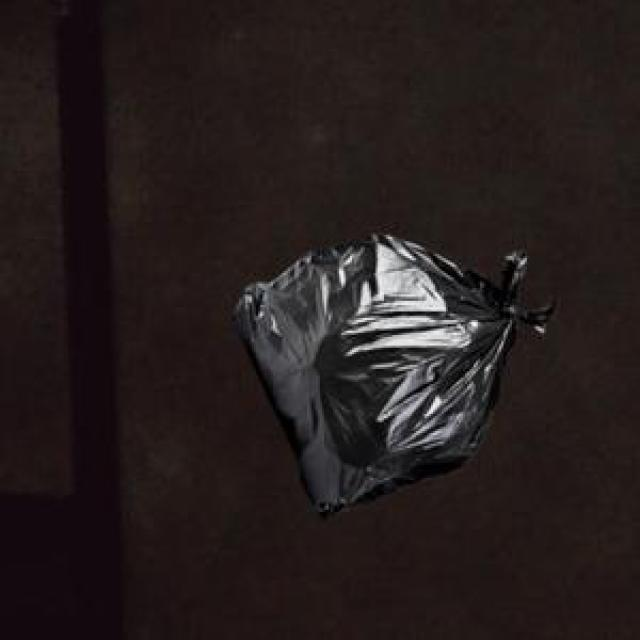Trashbag: (231, 227, 558, 527)
